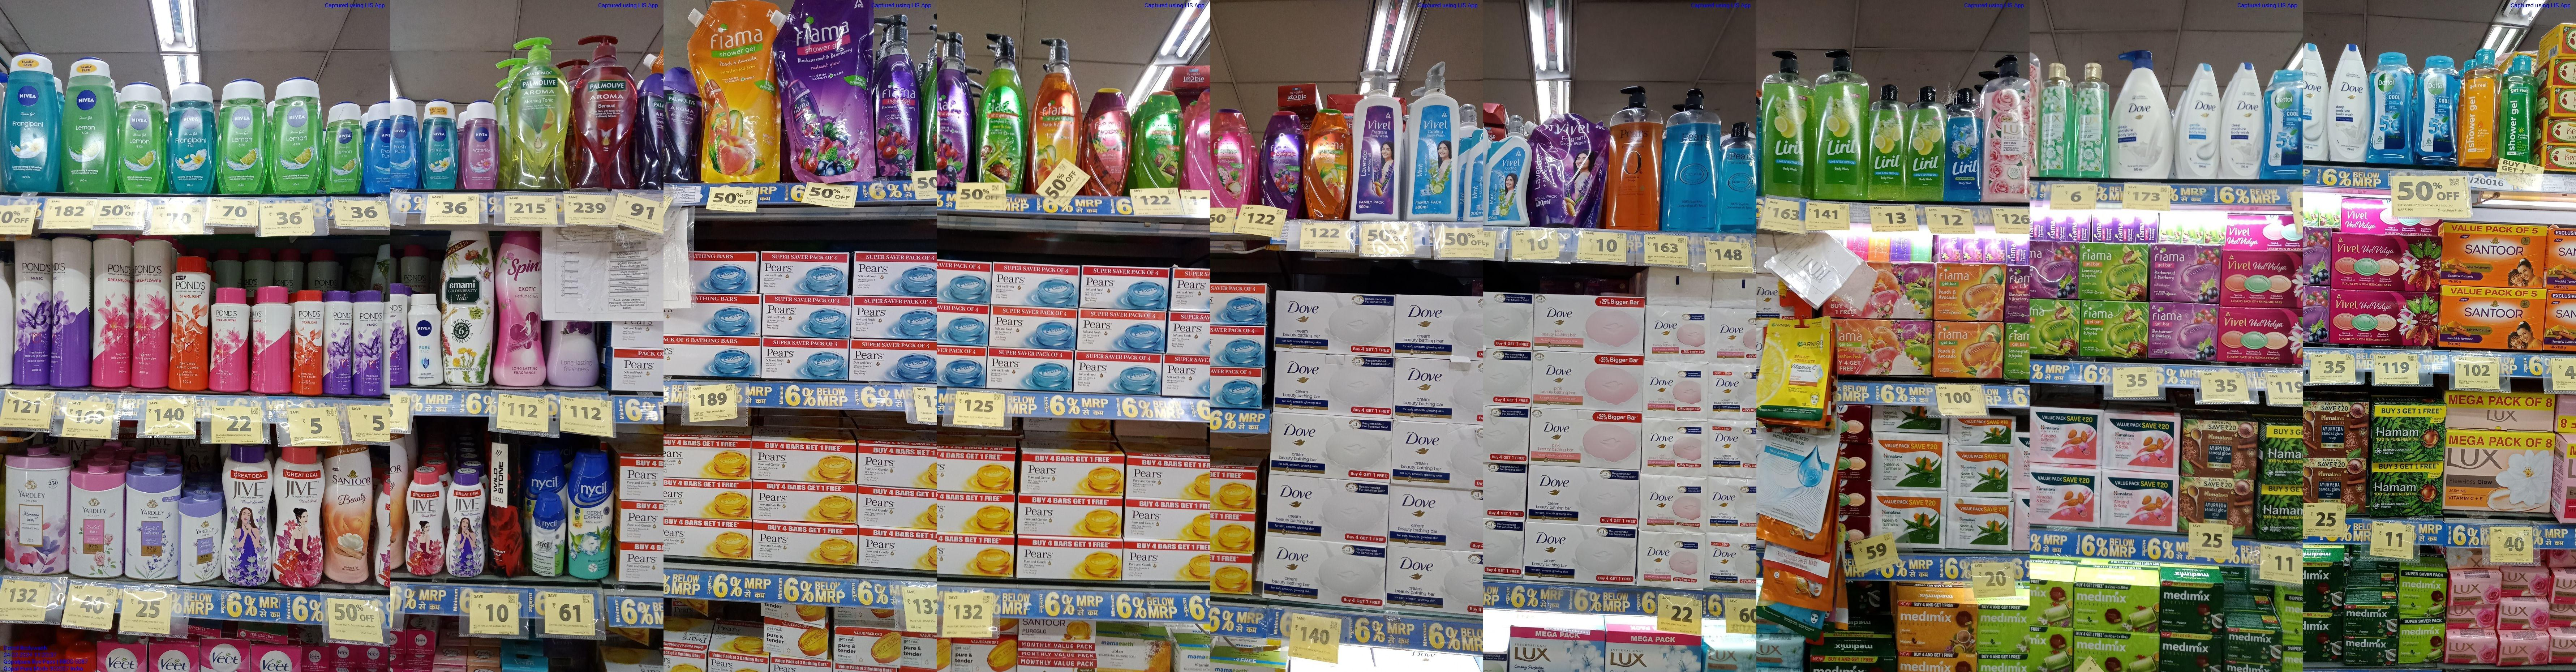Dettol_Bodywash_Cool: (2371, 53, 2415, 164), (2418, 54, 2458, 164)
Dove_Deep_Moisture_Body_Wash_250ML: (2328, 43, 2369, 161), (2223, 62, 2264, 179)
Dove_Gentle_Exfoliating_Body_Wash_250ML: (2177, 64, 2220, 179)
Fiama_Shower_Gel_Lemongrass_and_Jojoba_250ML: (1137, 90, 1183, 189)
Fiama_Shower_Gel_Patchouli_and_Macadamia_250ML: (1209, 108, 1252, 209)
Fiama_Shower_Gel_Peach_and_Avocado_250ML: (1304, 108, 1352, 219)
Liril_Cooling_Mint_Body_Wash_250ML: (1945, 89, 1981, 200)
Liril_Lime_and_Tea_Tree_Oil_Body_Wash_250ML: (1868, 84, 1907, 200), (1911, 87, 1943, 200)
Lux_Body_Wash_Skin_Detox_Freesia_Scent_and_Alove_Vera_245ML: (2077, 62, 2109, 179), (2040, 64, 2073, 177)
Nivea_Shower_Gel_Frangipani_and_Oil_250ML: (3, 53, 59, 192), (171, 81, 215, 197)
Nivea_Shower_Gel_Lemon_and_Oil_250ML: (62, 56, 117, 192), (269, 77, 322, 196), (220, 79, 266, 194), (118, 82, 164, 192)
Pears_Pure_Glycerin_and_Mint_Extracts_Body_Wash_250ML: (1722, 122, 1758, 232)
